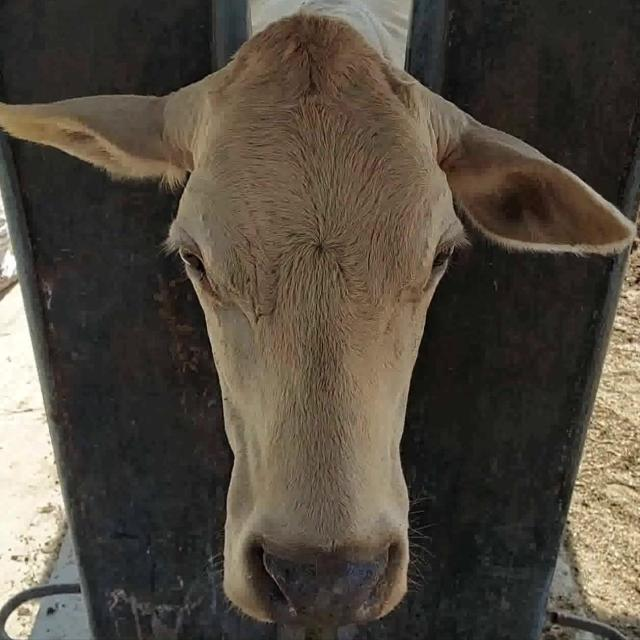cowFace: (177, 21, 461, 622)
